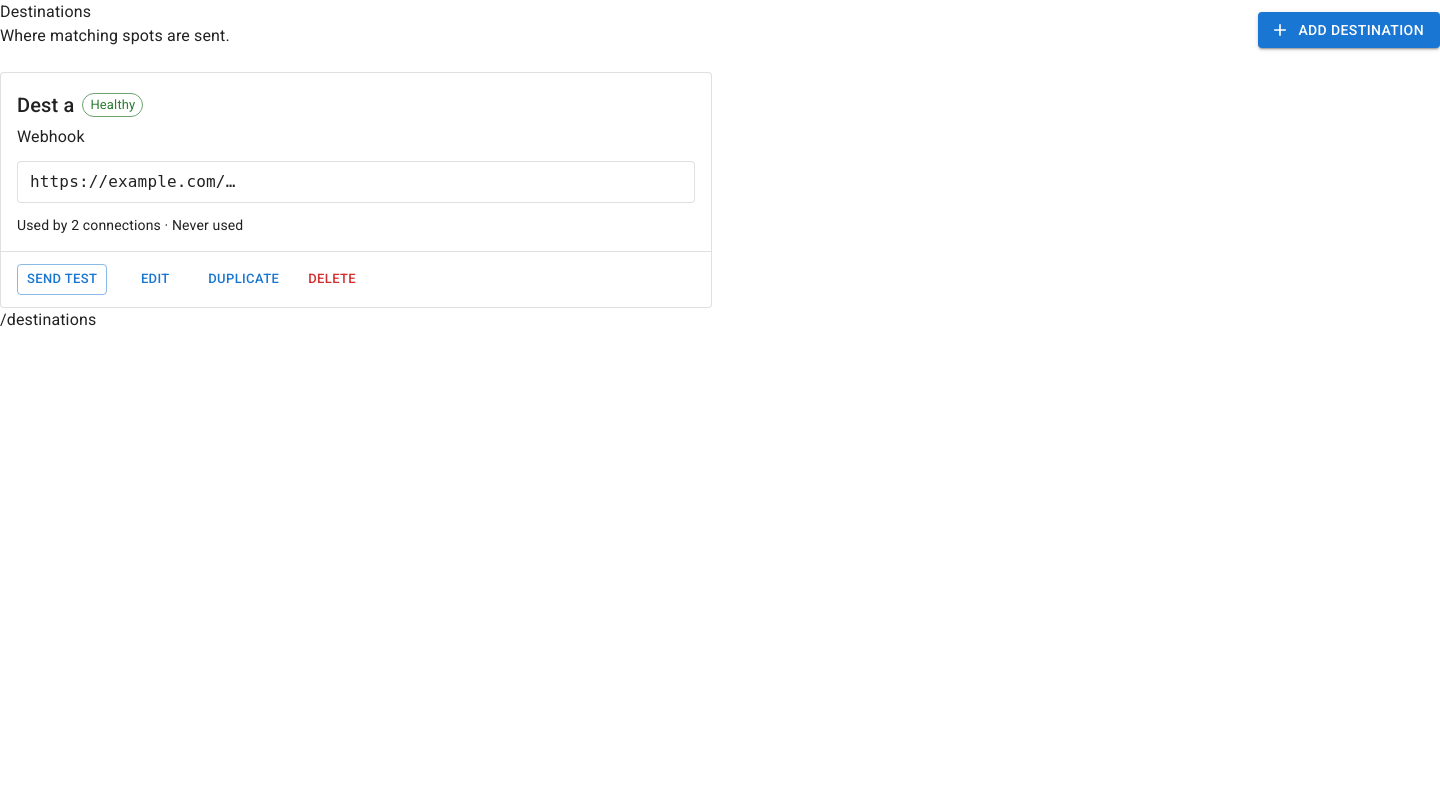
Test: DestinationsPage › words the warning when every connection would be left with none
The width and height of the screenshot is (1440, 810).
What coordinates should you click on to do the following:
click the button with aria-label "Delete Dest a"
I would click on:
 (332, 279)
Its box is [300,264,364,295].
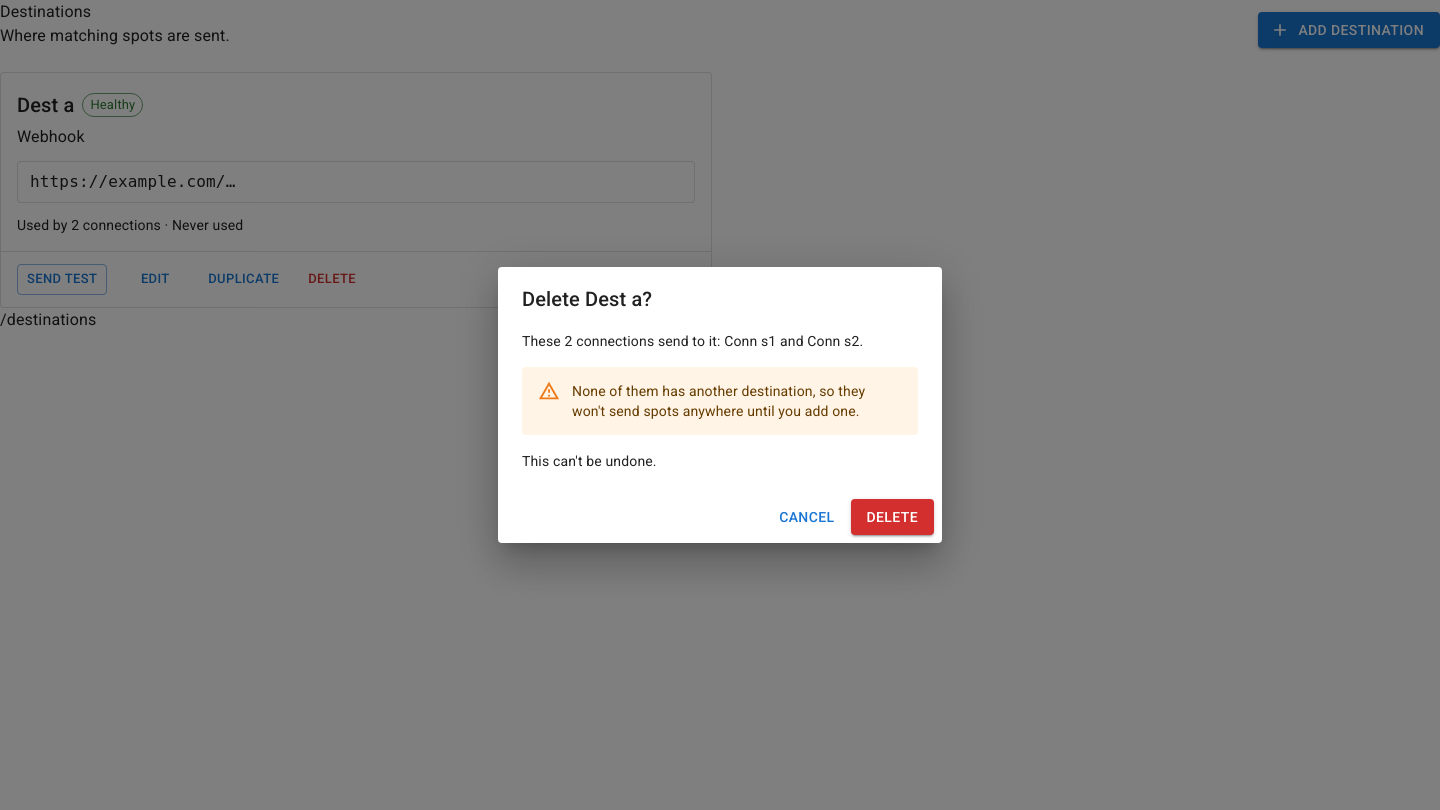
Result: the message shows "None of them has another destination, so they won't send spots anywhere until you add one." at [522,367,918,435]
